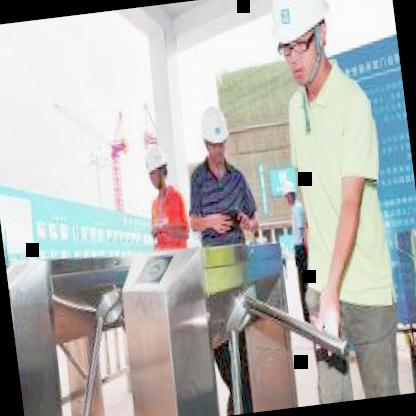helmet: (262, 0, 337, 98), (195, 98, 233, 170), (140, 136, 170, 192), (280, 176, 298, 209)
